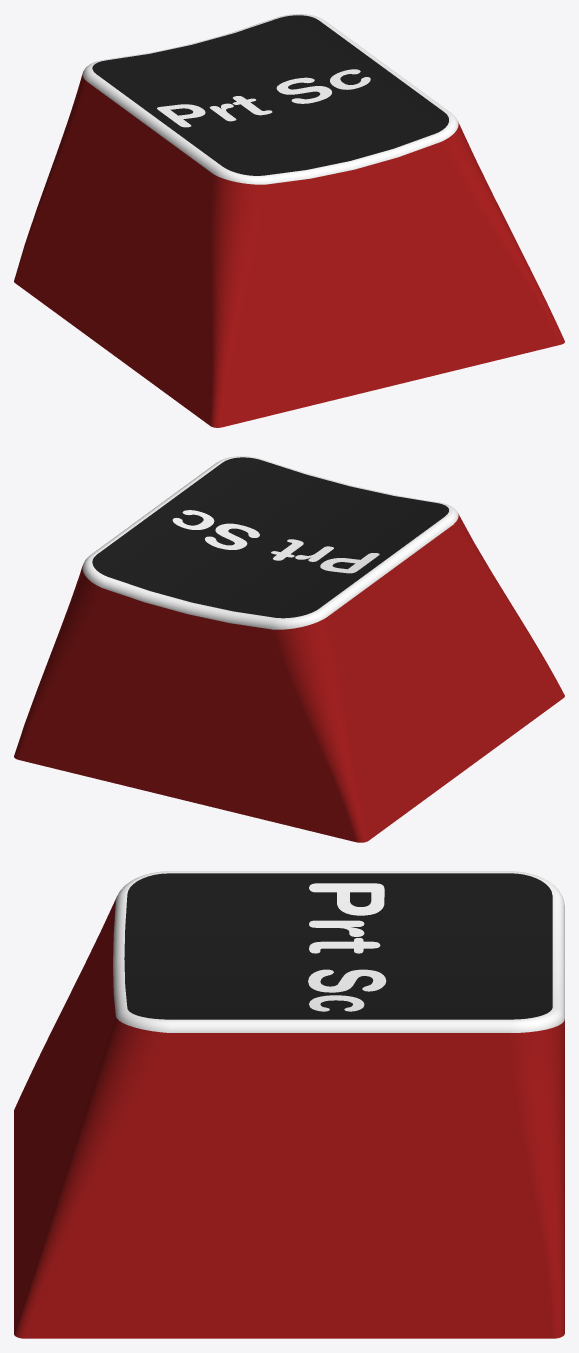
Rendered from Prt Sc.fbx.
The picture shows the model from 3 angles, top to bottom: view 1: azimuth 30°, elevation 25°; view 2: azimuth 150°, elevation 25°; view 3: azimuth 270°, elevation 25°; orthographic projection. The views are drawn at different scales.
Visible parts, largest first — view 1: Body1; view 2: Body1; view 3: Body1.
Part boxes in pixels (x1=…): Body1: x1=14, y1=14, x2=564, y2=427; Body1: x1=14, y1=456, x2=564, y2=842; Body1: x1=14, y1=871, x2=564, y2=1338.
Size of the model in its own units: 18 by 9.95 by 18.
